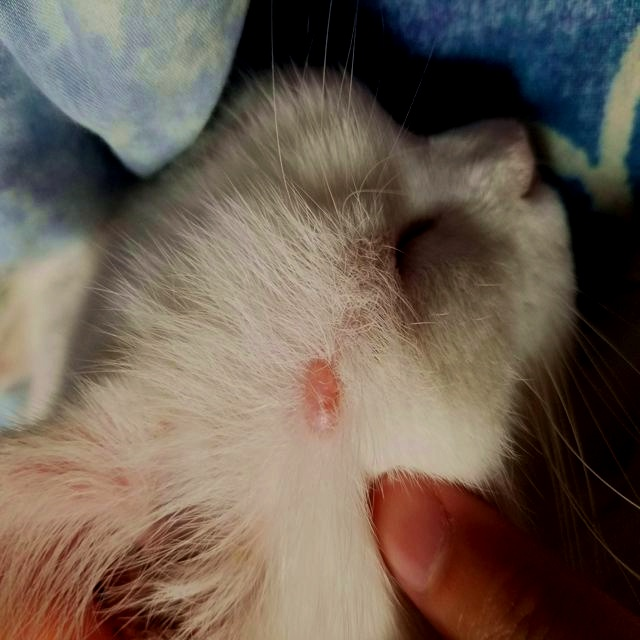lump_and_bump: (304, 360, 341, 432)
